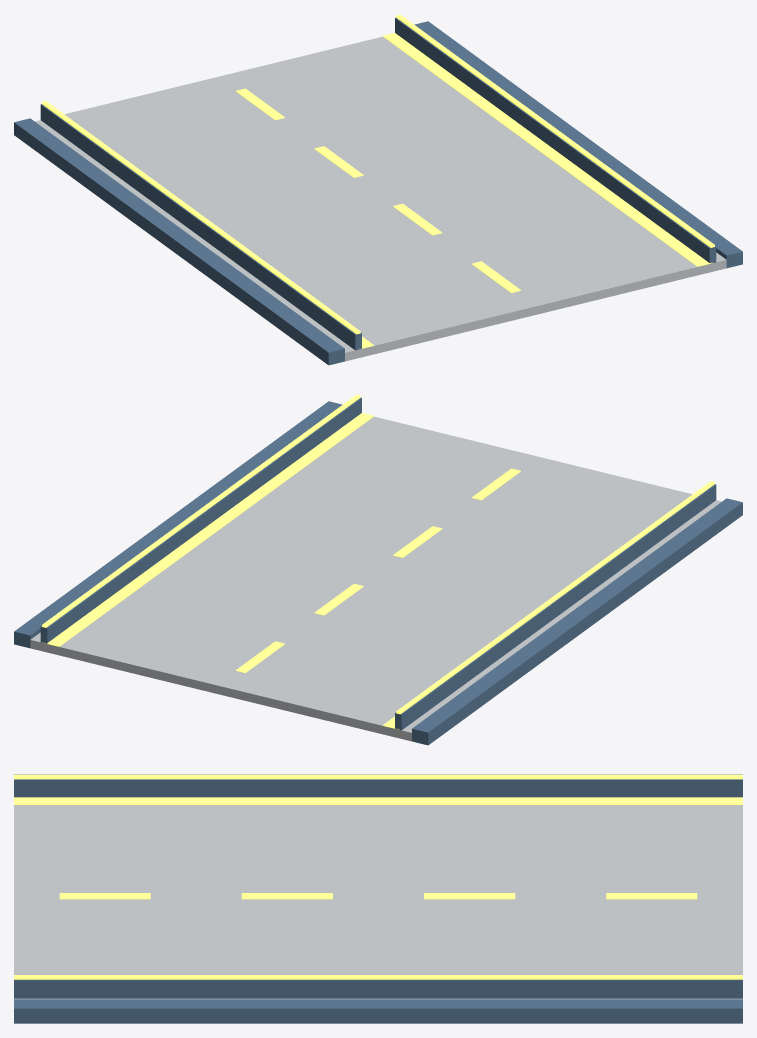
The model's file is road_industrial_x_straight.glb.
3 views of the same model, one above another, from view 1: azimuth 30°, elevation 25°; view 2: azimuth 150°, elevation 25°; view 3: azimuth 270°, elevation 25° (orthographic). The views are drawn at different scales.
Visible parts, largest first — view 1: body; view 2: body; view 3: body.
Part boxes in pixels (x1=…): body: x1=14, y1=14, x2=742, y2=365; body: x1=14, y1=394, x2=742, y2=745; body: x1=14, y1=774, x2=742, y2=1023.
Size of what is drawn, in the model's own units: 6.08 by 0.37 by 8.
